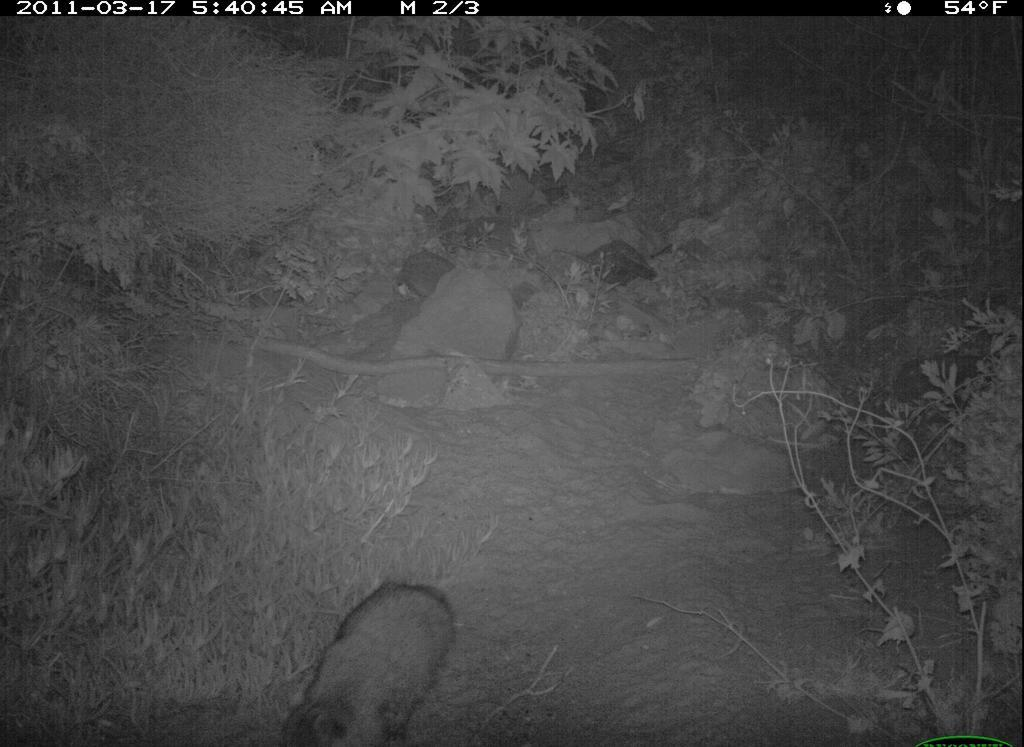raccoon: (269, 566, 474, 747)
